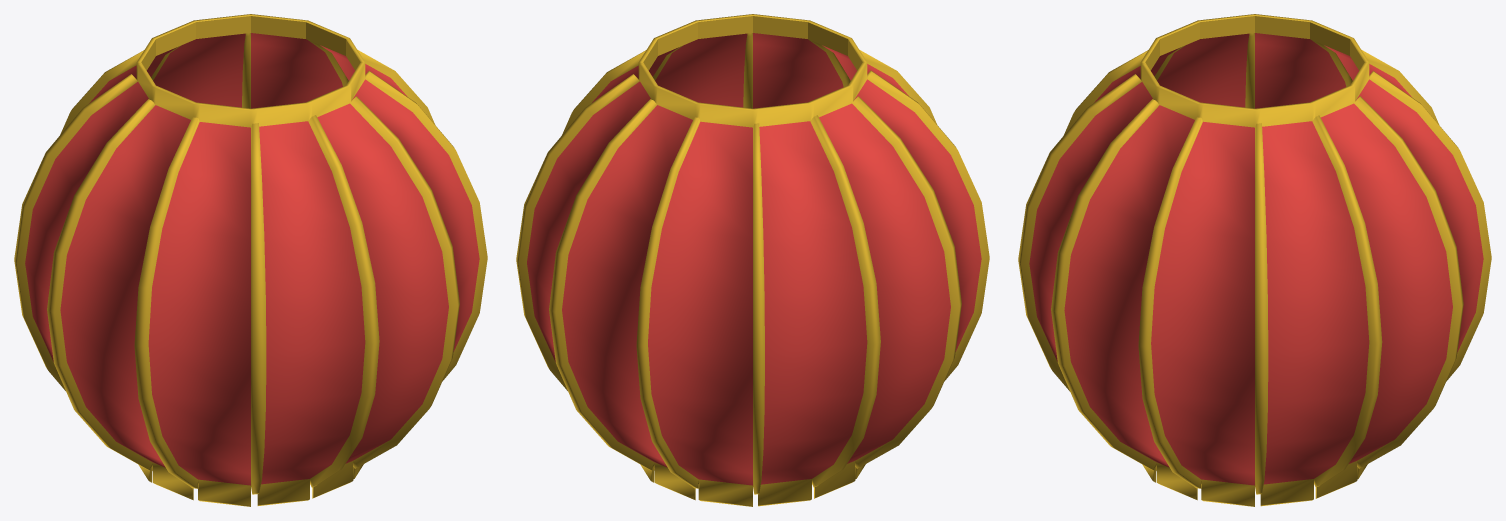
The model's file is lampion1.fbx.
3 renders of one model, left to right at view 1: azimuth 30°, elevation 25°; view 2: azimuth 150°, elevation 25°; view 3: azimuth 270°, elevation 25°, orthographic.
Parts seen in each view (by area): view 1: lampion; view 2: lampion; view 3: lampion.
Boxes of the visible parts, x1,y1,x2,y2 form: lampion: (14,14,487,506); lampion: (516,14,989,506); lampion: (1018,14,1491,506).
Size of the model in its own units: 54.9 by 50.68 by 54.9.
